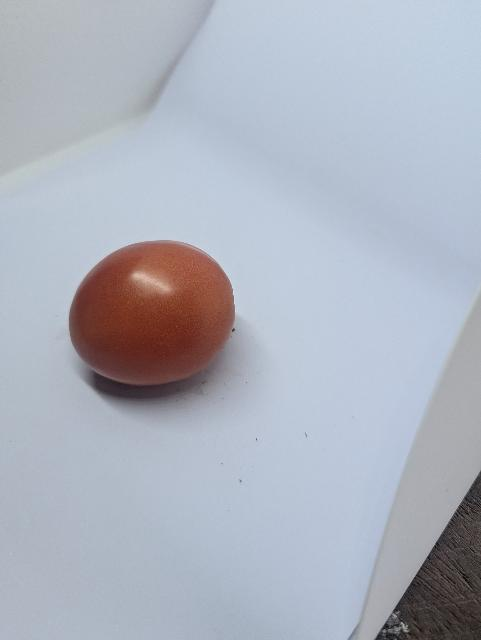red: (64, 237, 244, 404)
